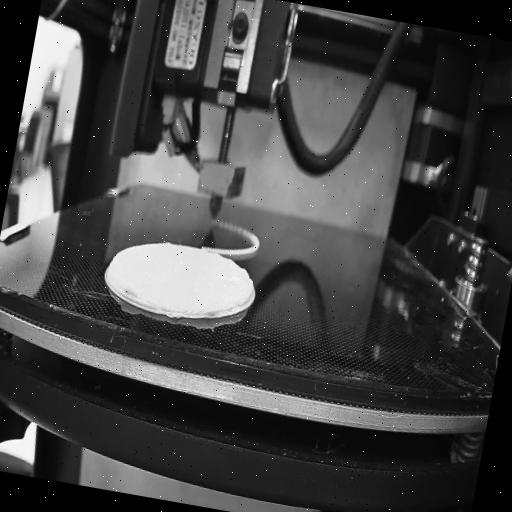over_extrusion: (223, 261, 259, 308)
